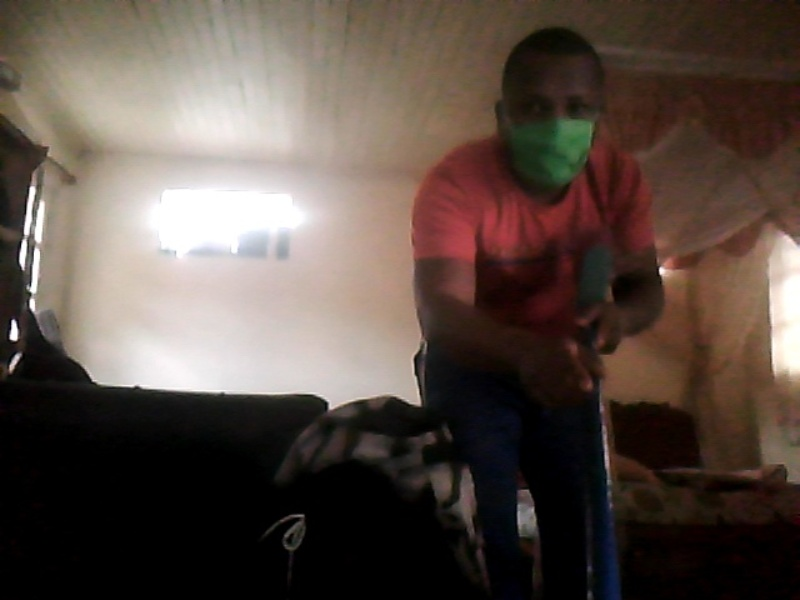ManaoArotava: (487, 26, 617, 196)
